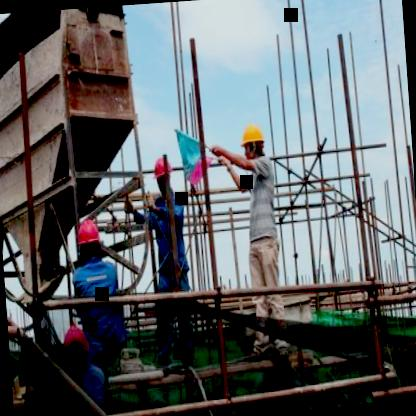helmet: (236, 118, 268, 166), (61, 320, 92, 367), (72, 214, 102, 258), (152, 152, 172, 194)
